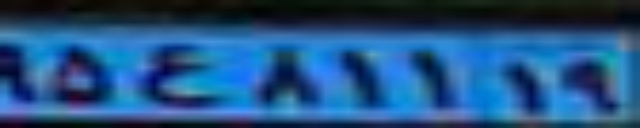1: (404, 43, 461, 108), (339, 43, 387, 107), (496, 59, 542, 113)
5: (44, 42, 121, 104)
8: (245, 38, 323, 104)
9: (554, 54, 624, 116), (1, 42, 37, 104)
ain: (139, 41, 225, 110)
